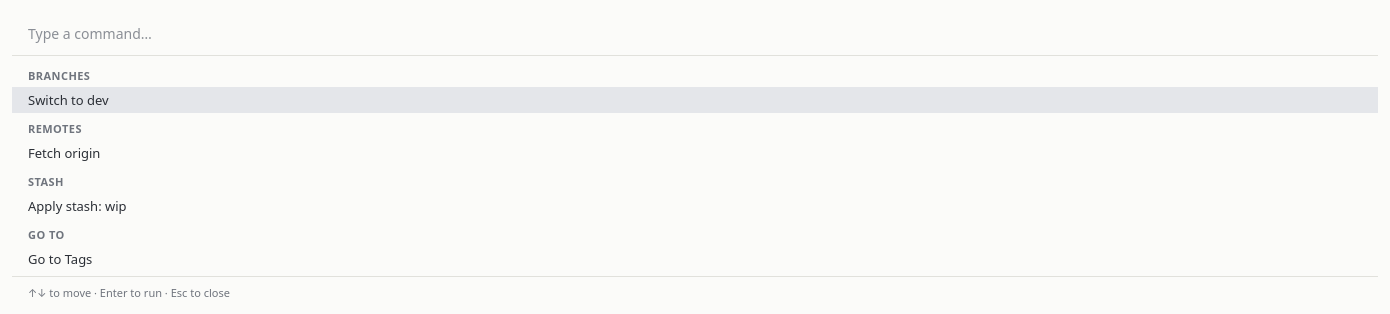
Test: CommandPalette › grouping and hints › shows a flat, headingless list while a query is typed
This screenshot has width=1390, height=314.
In the dropdown: (695, 34) [12,12,1378,56], type "s"
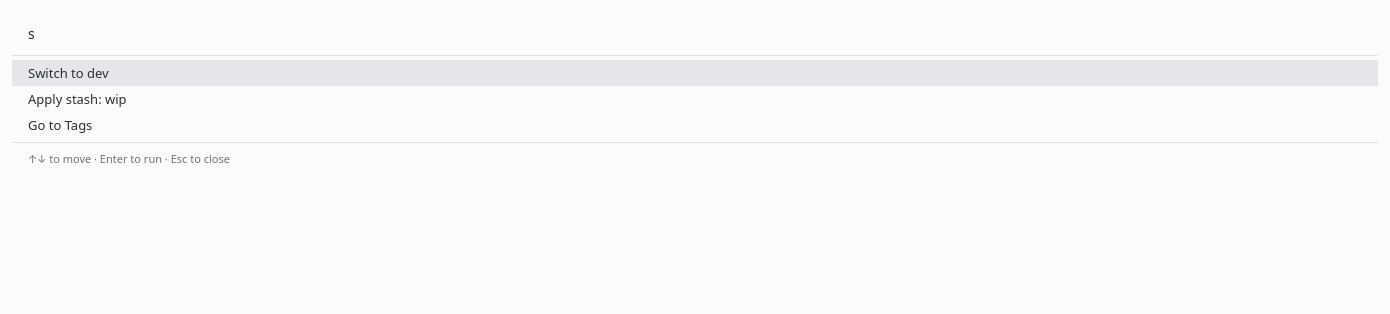
Check: the list item "Branches" is gone
